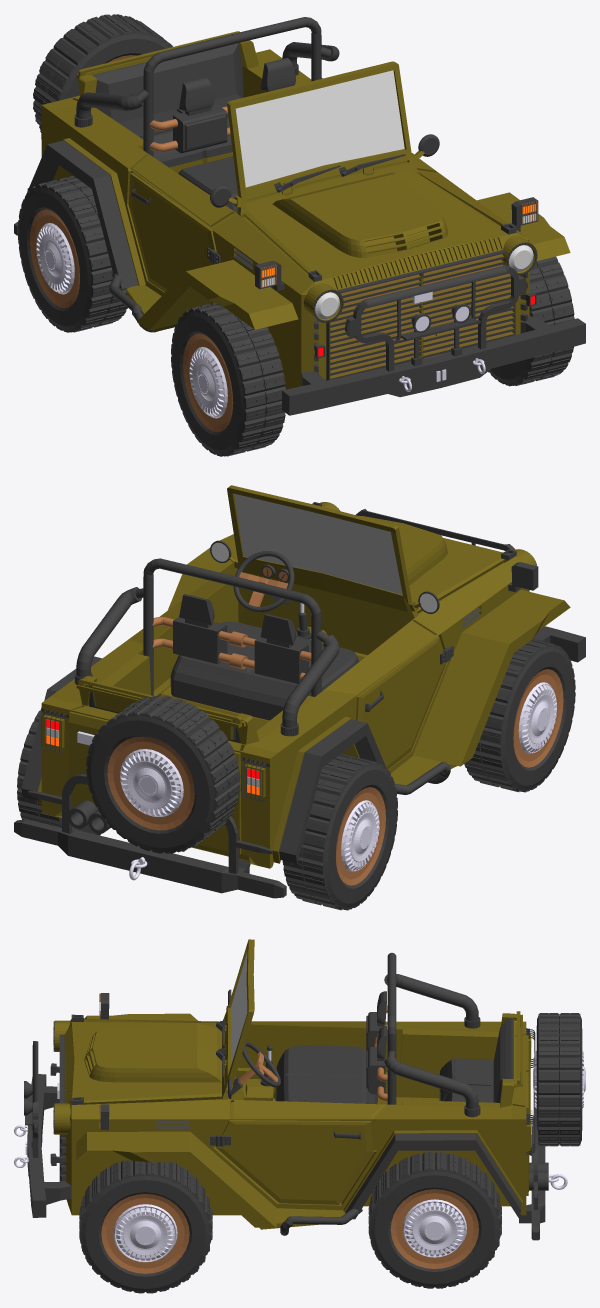
Rendered from Jeep.fbx.
3 renders of one model, top to bottom at view 1: azimuth 30°, elevation 25°; view 2: azimuth 150°, elevation 25°; view 3: azimuth 270°, elevation 25°, orthographic. The views are drawn at different scales.
Parts seen in each view (by area): view 1: Body, tyreFR, FBumber, Glass, tyreRR, RearSeat, FrontGrillOuter, tyreStep, pipe2, WindShieldFrame, RearMudCup, tyreFL (+9 smaller); view 2: Body, tyreStep, tyreRR, tyreFR, Glass, RearBumper, pipe2, Frontseat, seatbackSupport, RearMudCup, WindShieldFrame, FBumber (+8 smaller); view 3: Body, tyreRL, tyreFL, tyreStep, Frontseat, pipe2, RearMudCup, FBumber, RearSeat, WindShieldFrame, seatbackSupport, RearBumper (+7 smaller).
Part boxes in pixels (left/top/right/bottom): Body: left=41, top=31, right=570, bottom=389; tyreFR: left=171, top=302, right=285, bottom=456; FBumber: left=282, top=265, right=585, bottom=415; Glass: left=235, top=70, right=404, bottom=187; tyreRR: left=18, top=175, right=128, bottom=332; RearSeat: left=92, top=43, right=243, bottom=167; FrontGrillOuter: left=326, top=250, right=515, bottom=380; tyreStep: left=33, top=14, right=172, bottom=132; pipe2: left=74, top=17, right=339, bottom=156; WindShieldFrame: left=227, top=61, right=424, bottom=207; RearMudCup: left=27, top=78, right=322, bottom=288; tyreFL: left=488, top=256, right=574, bottom=386; Body: left=38, top=515, right=570, bottom=868; tyreStep: left=86, top=696, right=240, bottom=853; tyreRR: left=282, top=753, right=397, bottom=910; tyreFR: left=464, top=639, right=575, bottom=792; Glass: left=234, top=493, right=402, bottom=594; RearBumper: left=14, top=774, right=286, bottom=898; pipe2: left=74, top=558, right=339, bottom=736; Frontseat: left=170, top=621, right=359, bottom=720; seatbackSupport: left=173, top=594, right=308, bottom=683; RearMudCup: left=21, top=656, right=386, bottom=863; WindShieldFrame: left=227, top=485, right=421, bottom=611; FBumber: left=356, top=509, right=585, bottom=662; Body: left=64, top=1011, right=530, bottom=1229; tyreRL: left=368, top=1152, right=501, bottom=1288; tyreFL: left=79, top=1160, right=212, bottom=1293; tyreStep: left=533, top=1013, right=585, bottom=1146; Frontseat: left=276, top=1045, right=377, bottom=1104; pipe2: left=384, top=952, right=480, bottom=1117; RearMudCup: left=345, top=1133, right=521, bottom=1219; FBumber: left=25, top=1041, right=71, bottom=1217; RearSeat: left=439, top=1017, right=513, bottom=1102; WindShieldFrame: left=222, top=939, right=254, bottom=1093; seatbackSupport: left=366, top=991, right=386, bottom=1094; RearBumper: left=519, top=1091, right=545, bottom=1240.
Size of the model in its own units: 648 by 519 by 1078.
